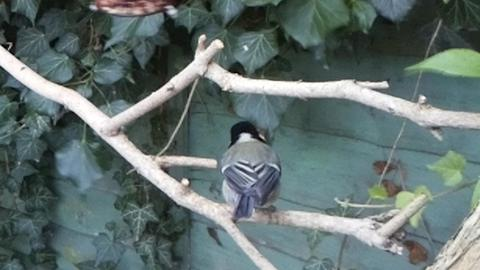great tit: (218, 120, 282, 226)
